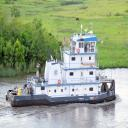tugboat: (6, 25, 118, 110)
